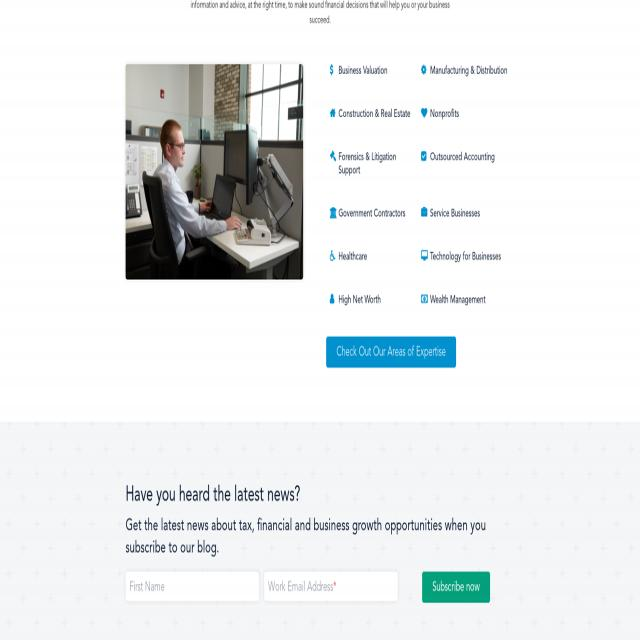button: (126, 63, 303, 280), (326, 336, 456, 368), (422, 572, 490, 603)
field: (125, 572, 259, 601), (264, 572, 398, 601)
